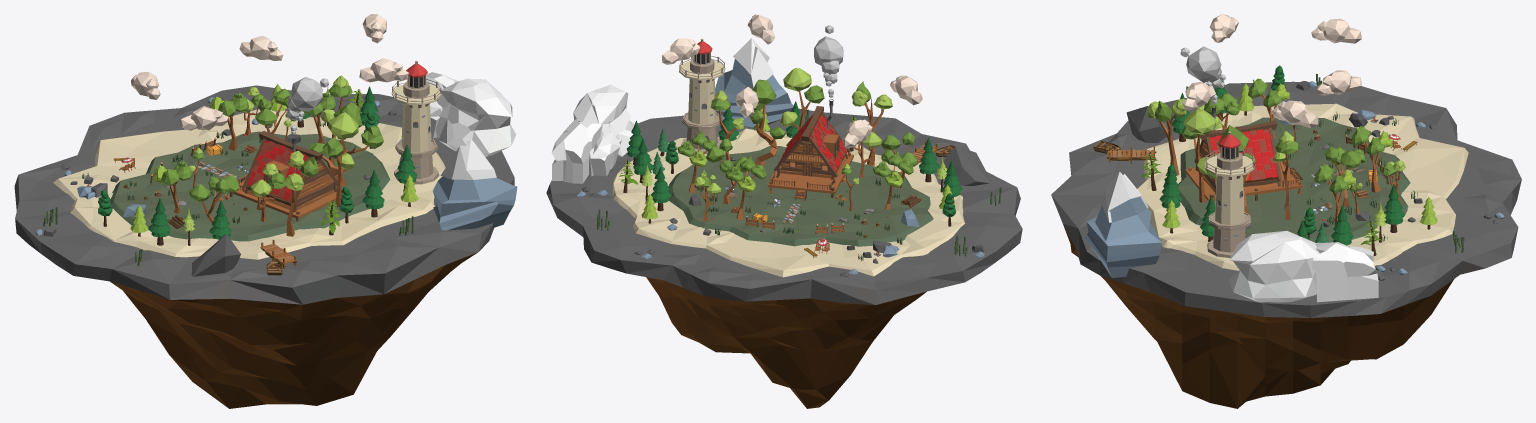
The model's file is Floating Port-transformed.glb.
3 views of the same model, side by side, from view 1: azimuth 30°, elevation 25°; view 2: azimuth 150°, elevation 25°; view 3: azimuth 270°, elevation 25° (orthographic). The views are drawn at different scales.
Parts seen in each view (by area): view 1: Floting Base, Rock, Big Rock, M_House, Light House, Tree, M_Tree 5, M_Smoke, M_Tree 6, M_Tree_4, M_Tree 1-1, M_Tree 2 (+14 smaller); view 2: Floting Base, Big Rock, M_House, Rock, Light House, Tree, M_Tree 5, M_Tree 6, M_Smoke, M_Tree 3-1, M_Tree 3, M_Tree_4 (+14 smaller); view 3: Floting Base, Big Rock, Rock, Light House, M_House, Tree, M_Smoke, M_Tree 5, M_Tree_4, M_Tree 3-1, M_Cloud-1, M_Cloud-2 (+12 smaller).
Boxes of the visible parts, x1,y1,x2,y2 form: Floting Base: (14,85,514,408); Rock: (84,97,517,276); Big Rock: (402,72,516,156); M_House: (229,131,342,221); Light House: (391,60,441,184); Tree: (98,86,418,226); M_Tree 5: (322,112,358,207); M_Smoke: (286,77,328,134); M_Tree 6: (310,102,383,186); M_Tree_4: (284,150,318,236); M_Tree 1-1: (189,175,239,223); M_Tree 2: (250,163,285,221); Floting Base: (546,108,1022,408); Big Rock: (551,84,634,183); M_House: (767,99,853,200); Rock: (634,38,991,257); Light House: (679,38,725,154); Tree: (618,101,955,226); M_Tree 5: (780,68,824,130); M_Tree 6: (750,79,785,165); M_Smoke: (814,25,843,97); M_Tree 3-1: (726,155,766,219); M_Tree 3: (873,150,913,209); M_Tree_4: (852,81,892,165); Floting Base: (1051,81,1521,408); Big Rock: (1228,230,1378,302); Rock: (1085,106,1498,277); Light House: (1205,131,1254,257); M_House: (1185,106,1303,201); Tree: (1159,65,1386,256); M_Smoke: (1180,46,1225,103); M_Tree 5: (1182,109,1216,202); M_Tree_4: (1147,98,1187,175); M_Tree 3-1: (1350,126,1392,192); M_Cloud-1: (1311,18,1361,43); M_Cloud-2: (1271,100,1318,128).
Size of the model in its own units: 31.88 by 23.98 by 27.85.
Materials: 1 (1 with a texture image).
